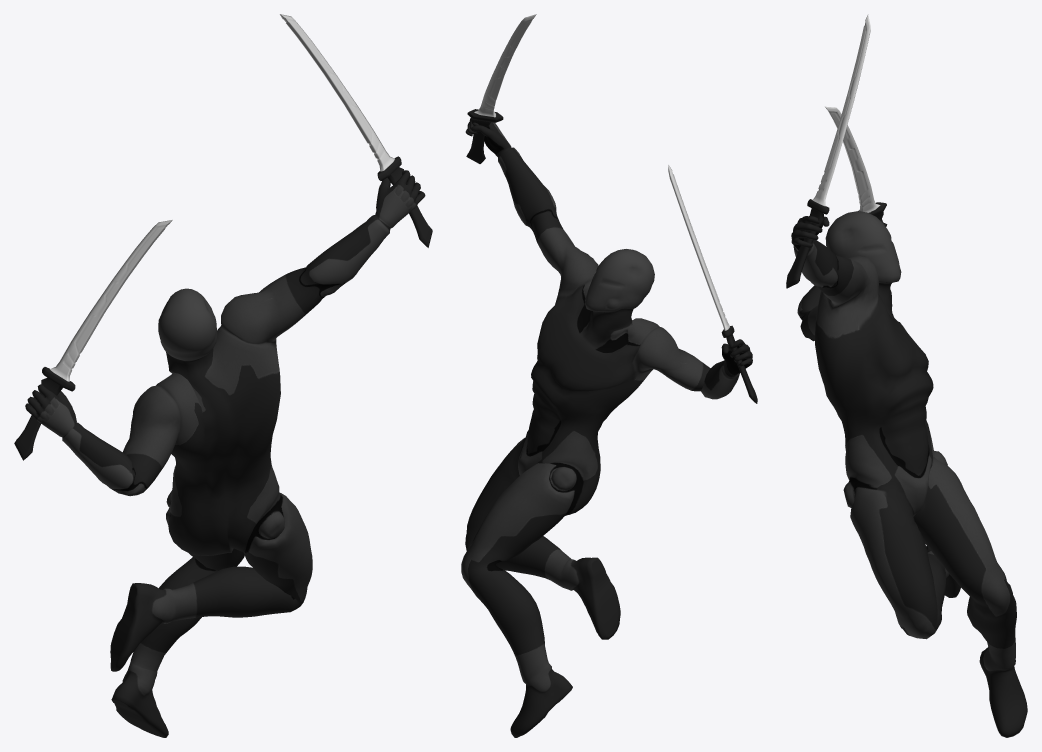
3 views of the same model, side by side, from view 1: azimuth 30°, elevation 25°; view 2: azimuth 150°, elevation 25°; view 3: azimuth 270°, elevation 25° (orthographic). The views are drawn at different scales.
Parts seen in each view (by area): view 1: Cyborg_Ninja_Killer, Sword_l, Sword_l001; view 2: Cyborg_Ninja_Killer, Sword_l001, Sword_l; view 3: Cyborg_Ninja_Killer, Sword_l001, Sword_l.
Boxes of the visible parts, x1=… form: Cyborg_Ninja_Killer: x1=25, y1=170, x2=425, y2=737; Sword_l: x1=14, y1=220, x2=172, y2=460; Sword_l001: x1=280, y1=14, x2=432, y2=247; Cyborg_Ninja_Killer: x1=461, y1=118, x2=752, y2=737; Sword_l001: x1=466, y1=14, x2=536, y2=163; Sword_l: x1=668, y1=165, x2=757, y2=403; Cyborg_Ninja_Killer: x1=791, y1=211, x2=1027, y2=737; Sword_l001: x1=786, y1=14, x2=870, y2=288; Sword_l: x1=825, y1=106, x2=886, y2=219.
Bounding box in the file's own units: 131 × 256 × 75.29.
2 materials, 2 textured.
